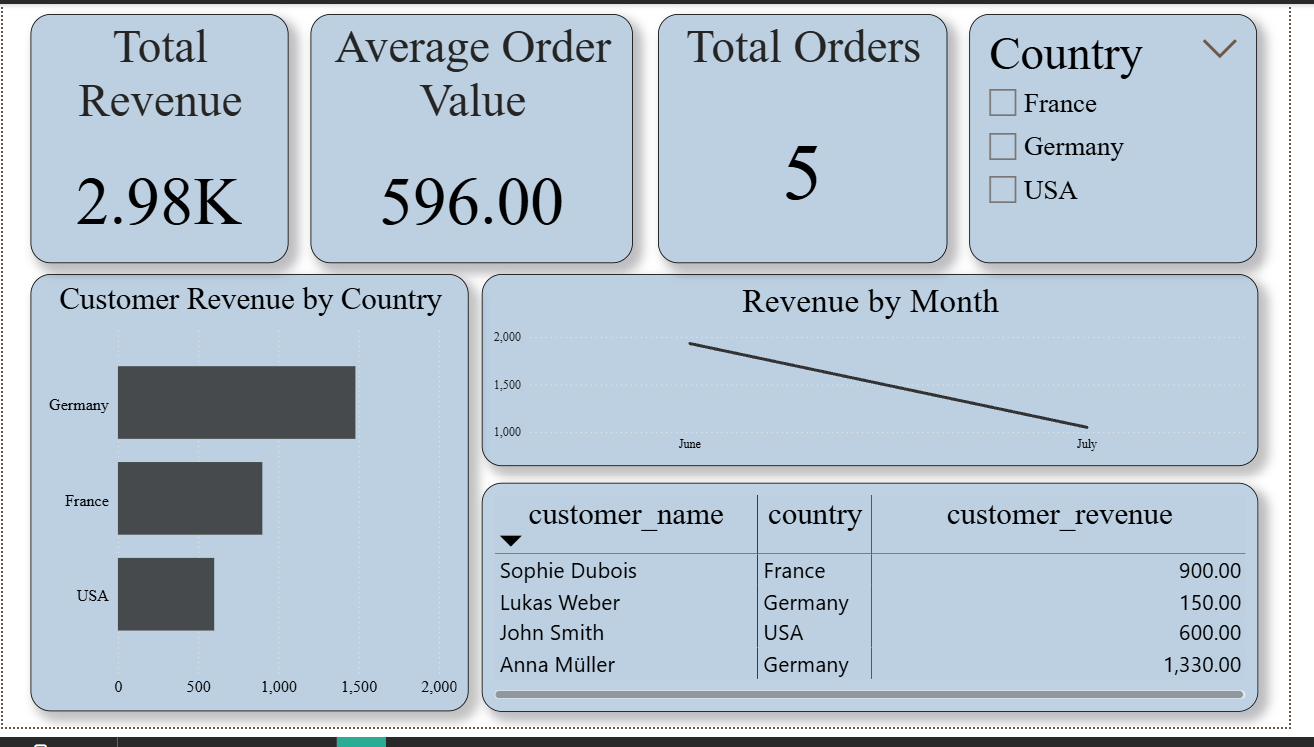

Layout of this report page (visuals, bound fields, positions):
{"tool":"powerbi","page":{"name":"Customer Order Analysis","canvas":[1280,720],"ordinal":0},"visuals":[{"type":"cardVisual","title":"Average Order Value","fields":{"Data":["public vw_monthly_revenue.Average Order Value"]},"box":[306,9.6,321.1,248.4],"z":0},{"type":"lineChart","title":"Revenue by Month","fields":{"Category":["public vw_monthly_revenue.month.Variation.Date Hierarchy.Month"],"Y":["public vw_monthly_revenue.monthly_revenue"]},"box":[476.4,268.7,772.5,191.6],"z":1000},{"type":"barChart","title":"Customer Revenue by Country","fields":{"Y":["public vw_customer_revenue.customer_revenue"],"Category":["public vw_customer_revenue.country"]},"box":[27.4,269,436.4,435],"z":2000},{"type":"tableEx","fields":{"Values":["public vw_customer_revenue.customer_name","public vw_customer_revenue.country","public vw_customer_revenue.customer_revenue"]},"box":[476.4,476.4,772.5,227.6],"z":4001},{"type":"cardVisual","title":"Total Orders","fields":{"Data":["public vw_monthly_revenue.Total Orders"]},"box":[651.8,9.6,288.2,248.4],"z":4002},{"type":"cardVisual","title":"Total Revenue","fields":{"Data":["public vw_order_summary.Total Revenue"]},"box":[27.4,9.6,256.6,248.4],"z":4003},{"type":"slicer","fields":{"Values":["public vw_customer_revenue.country"]},"box":[961.9,9.6,286.8,248.4],"z":4004}]}

Visuals, with their boxes in screenshot pixels (x1, y1, x2, y2), scaled from the page's 1280x720 canvas onto the 1314x747 screenshot:
"Average Order Value" cardVisual: detection(314, 10, 644, 268)
"Revenue by Month" lineChart: detection(489, 279, 1282, 478)
"Customer Revenue by Country" barChart: detection(28, 279, 476, 730)
tableEx - public vw_customer_revenue.customer_name x public vw_customer_revenue.country: detection(489, 494, 1282, 730)
"Total Orders" cardVisual: detection(669, 10, 965, 268)
"Total Revenue" cardVisual: detection(28, 10, 292, 268)
slicer - public vw_customer_revenue.country: detection(987, 10, 1282, 268)
